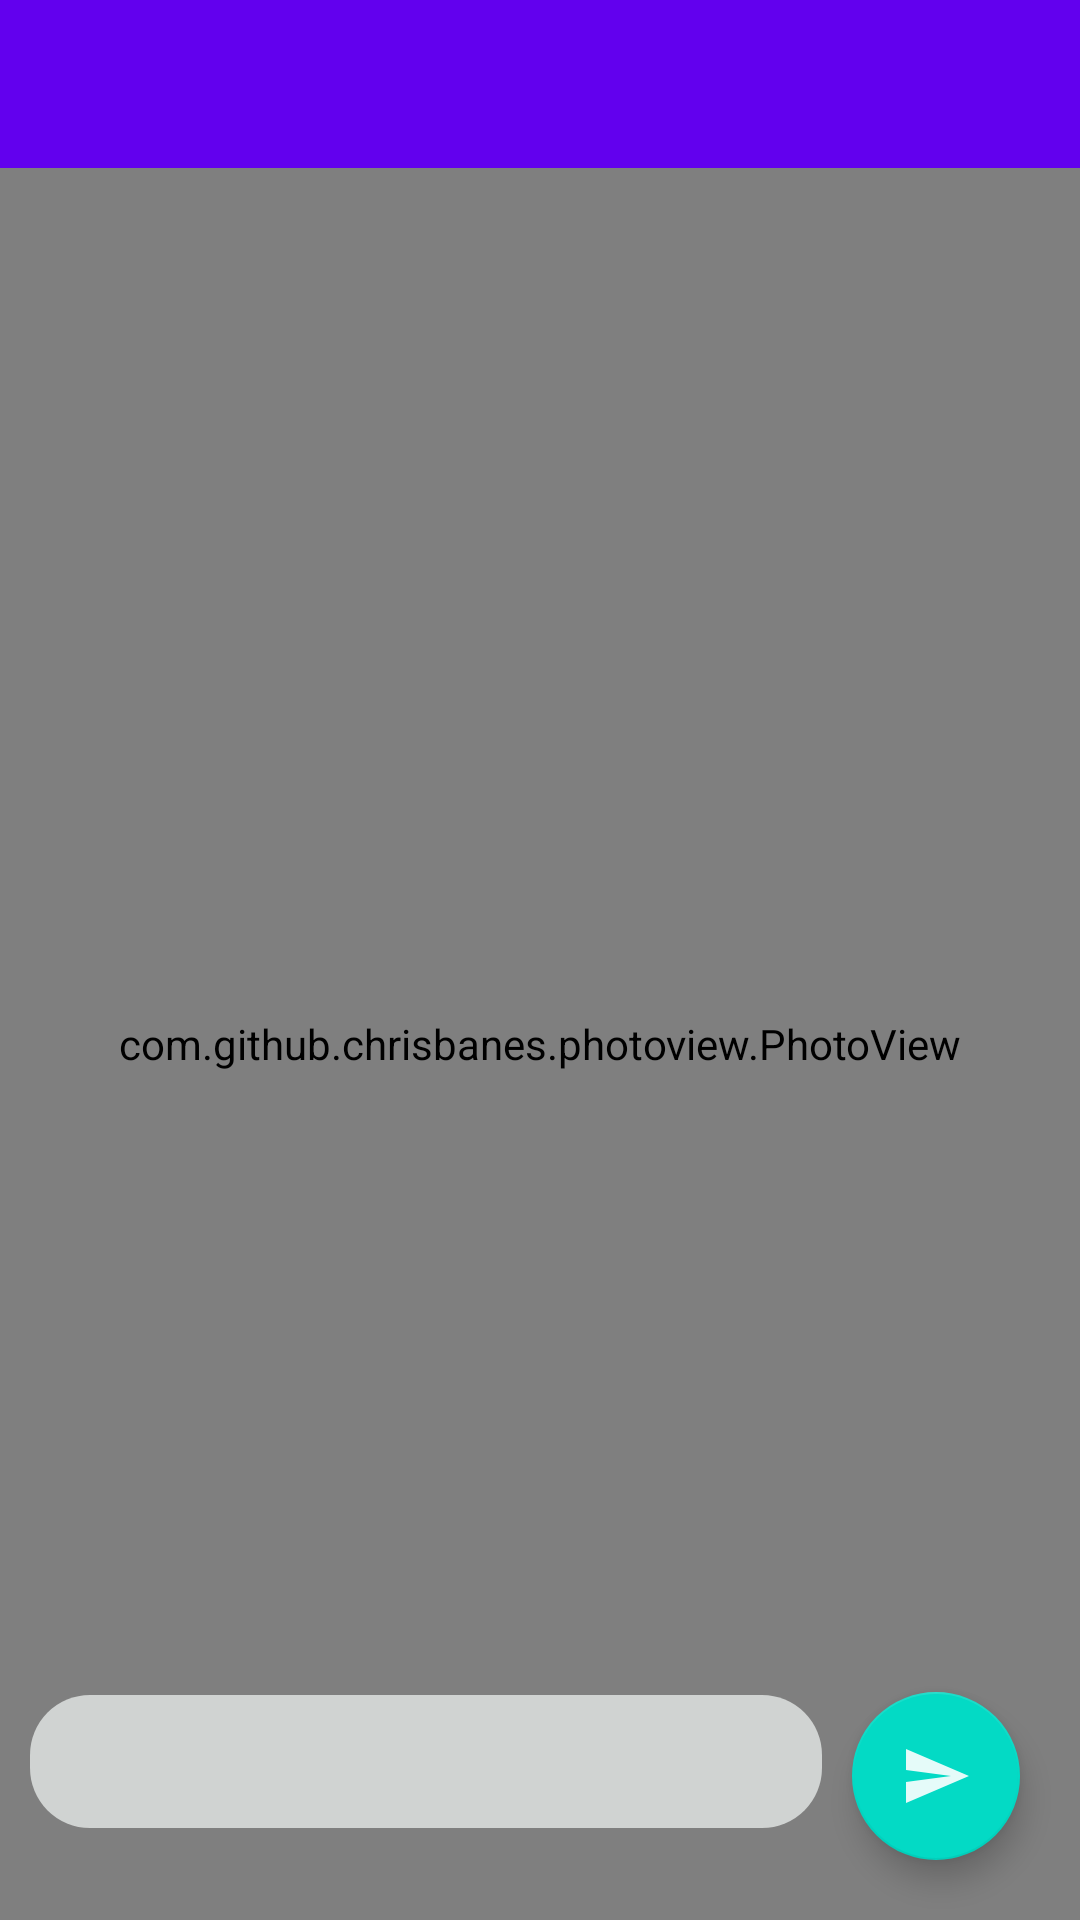

Named icons in this screenshot (1080px x 1920px) and their bounding boxes, (x1, y1, x2, y2):
send: (852, 1692, 1020, 1860)
